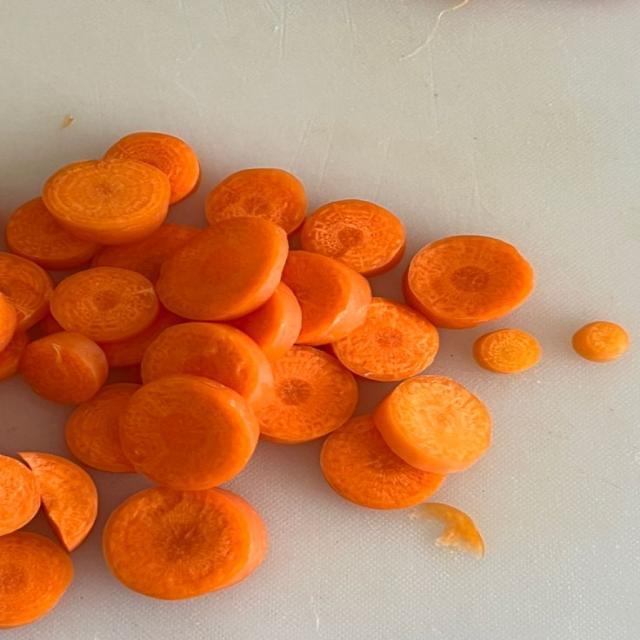carrot: (103, 488, 266, 599), (120, 376, 259, 489), (157, 218, 287, 320), (404, 236, 533, 328), (374, 376, 491, 474), (321, 416, 444, 509), (42, 159, 170, 244), (142, 323, 273, 404), (254, 347, 358, 444), (332, 298, 439, 380), (282, 251, 371, 345), (51, 267, 159, 342), (301, 200, 405, 276), (20, 453, 97, 551), (0, 532, 73, 628), (105, 132, 199, 204), (6, 198, 99, 270), (65, 383, 139, 472), (206, 169, 306, 234), (93, 224, 199, 283), (20, 332, 108, 403), (230, 283, 301, 360), (100, 305, 185, 367), (0, 252, 53, 331), (421, 503, 484, 557), (0, 455, 40, 536), (474, 329, 541, 373), (573, 321, 629, 362), (0, 332, 29, 380), (0, 293, 17, 351), (110, 365, 141, 384), (38, 313, 64, 335)
